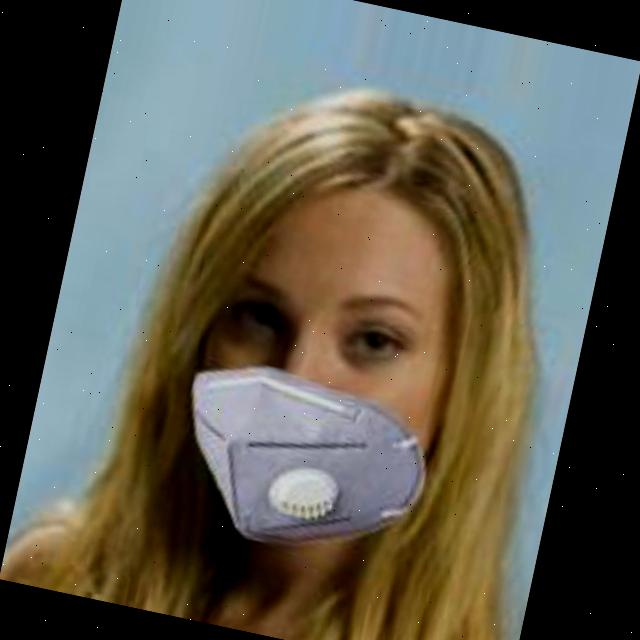suspicion: (142, 64, 550, 556)
